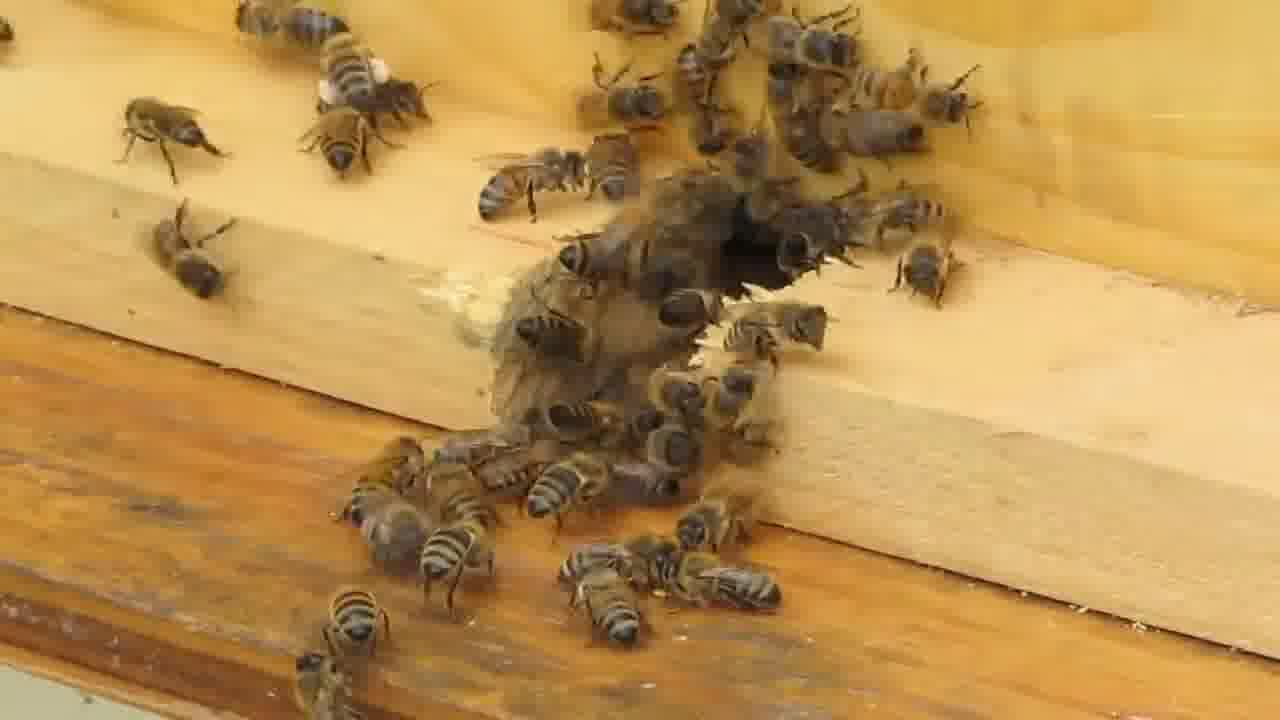pollen: (309, 29, 394, 112)
